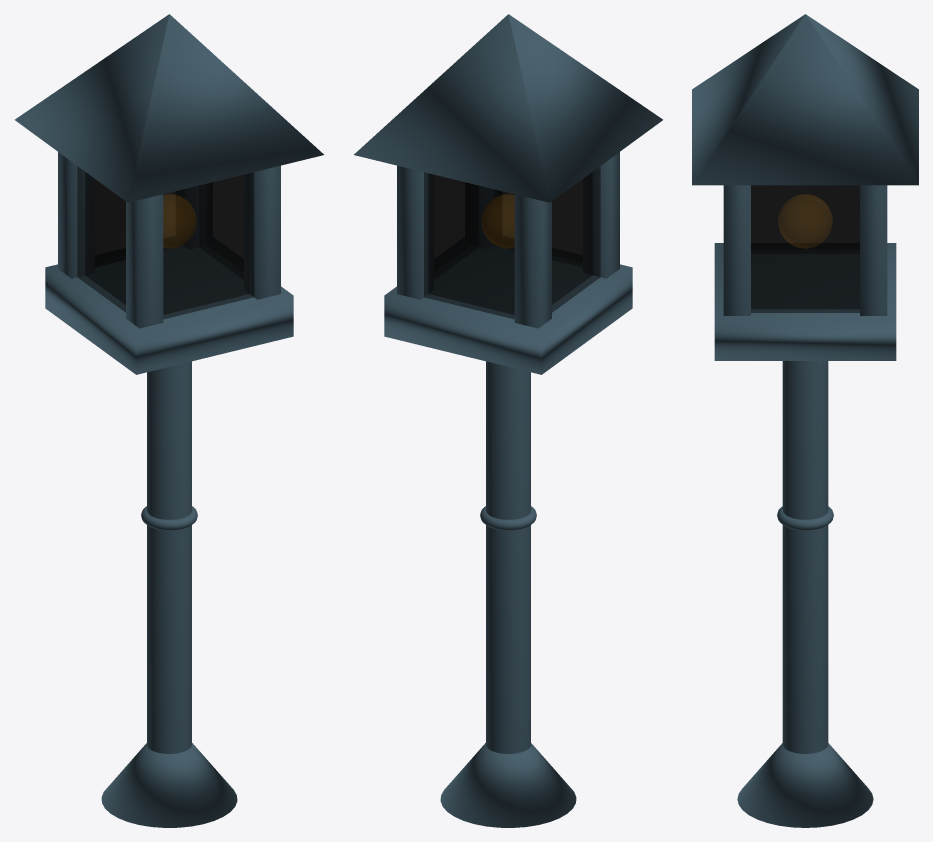
3 renders of one model, left to right at view 1: azimuth 30°, elevation 25°; view 2: azimuth 150°, elevation 25°; view 3: azimuth 270°, elevation 25°, orthographic.
Parts seen in each view (by area): view 1: 立方体.005, 立方体, 円柱, 立方体.009, 円錐, 立方体.007, 立方体.004, 立方体.003, 立方体.002, 立方体.006, 立方体.008, 球 (+2 smaller); view 2: 立方体.005, 立方体, 円柱, 立方体.008, 円錐, 立方体.007, 立方体.002, 立方体.001, 立方体.004, 立方体.006, 立方体.009, 球 (+2 smaller); view 3: 立方体.005, 円柱, 立方体, 立方体.006, 円錐, 立方体.007, 立方体.001, 立方体.003, 球, トーラス.
Part boxes in pixels (<box>): 立方体.005: <box>15,14,323,202</box>; 立方体: <box>45,246,293,374</box>; 円柱: <box>147,361,191,753</box>; 立方体.009: <box>163,172,253,318</box>; 円錐: <box>101,743,237,827</box>; 立方体.007: <box>77,166,125,312</box>; 立方体.004: <box>126,194,163,328</box>; 立方体.003: <box>244,165,280,299</box>; 立方体.002: <box>58,152,94,278</box>; 立方体.006: <box>207,175,243,271</box>; 立方体.008: <box>95,180,178,266</box>; 球: <box>164,195,195,247</box>; 立方体.005: <box>354,14,662,202</box>; 立方体: <box>384,246,632,374</box>; 円柱: <box>486,361,530,753</box>; 立方体.008: <box>424,172,514,318</box>; 円錐: <box>440,743,576,827</box>; 立方体.007: <box>552,166,600,312</box>; 立方体.002: <box>514,194,551,328</box>; 立方体.001: <box>397,165,433,299</box>; 立方体.004: <box>583,152,619,278</box>; 立方体.006: <box>434,175,470,271</box>; 立方体.009: <box>499,180,582,262</box>; 球: <box>482,195,513,247</box>; 立方体.005: <box>692,14,918,185</box>; 円柱: <box>782,361,828,753</box>; 立方体: <box>714,243,896,360</box>; 立方体.006: <box>751,185,859,312</box>; 円錐: <box>737,743,873,827</box>; 立方体.007: <box>751,186,859,249</box>; 立方体.001: <box>860,185,887,315</box>; 立方体.003: <box>723,185,750,315</box>; 球: <box>779,195,831,247</box>; トーラス: <box>777,506,833,530</box>.
Size of the model in its own units: 0.5 by 1.92 by 0.5.
